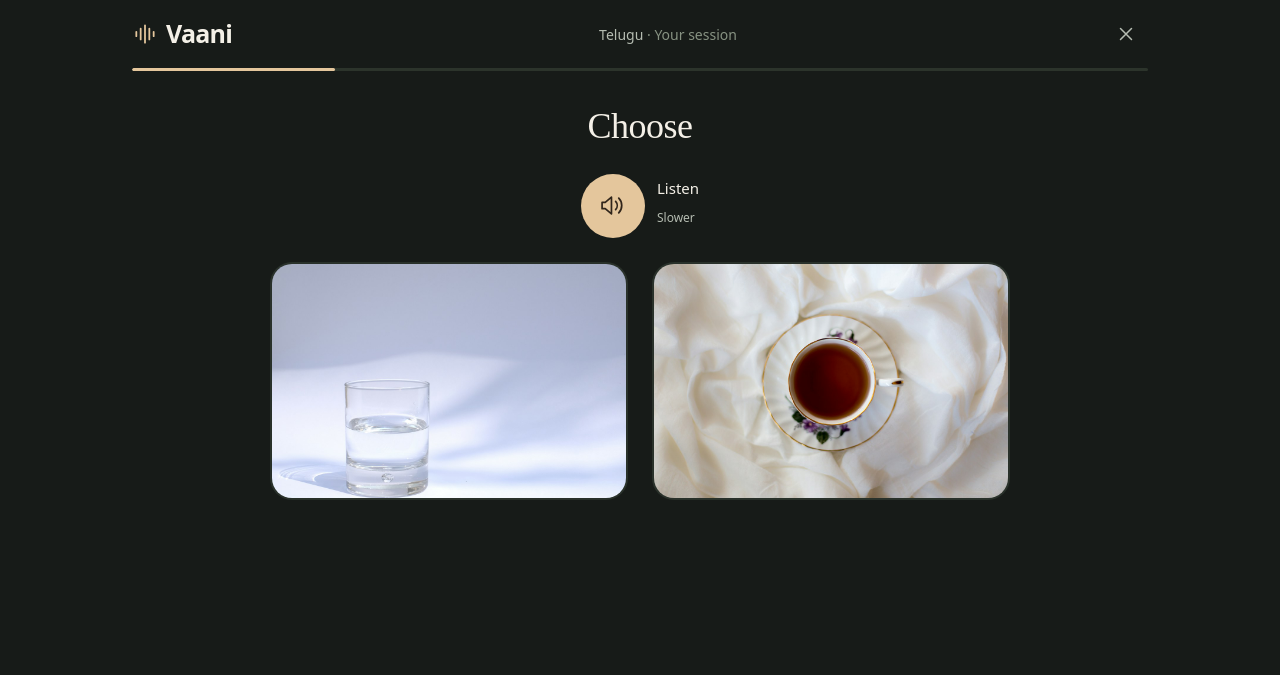
Test: consumer learning interactions › keeps the chosen photograph present after an incorrect response and allows retry
This screenshot has width=1280, height=675.
What coordinates should you click on to do the following:
click the button named "Image option 2"
I would click on:
 (831, 381)
Its box is [652,262,1010,500].
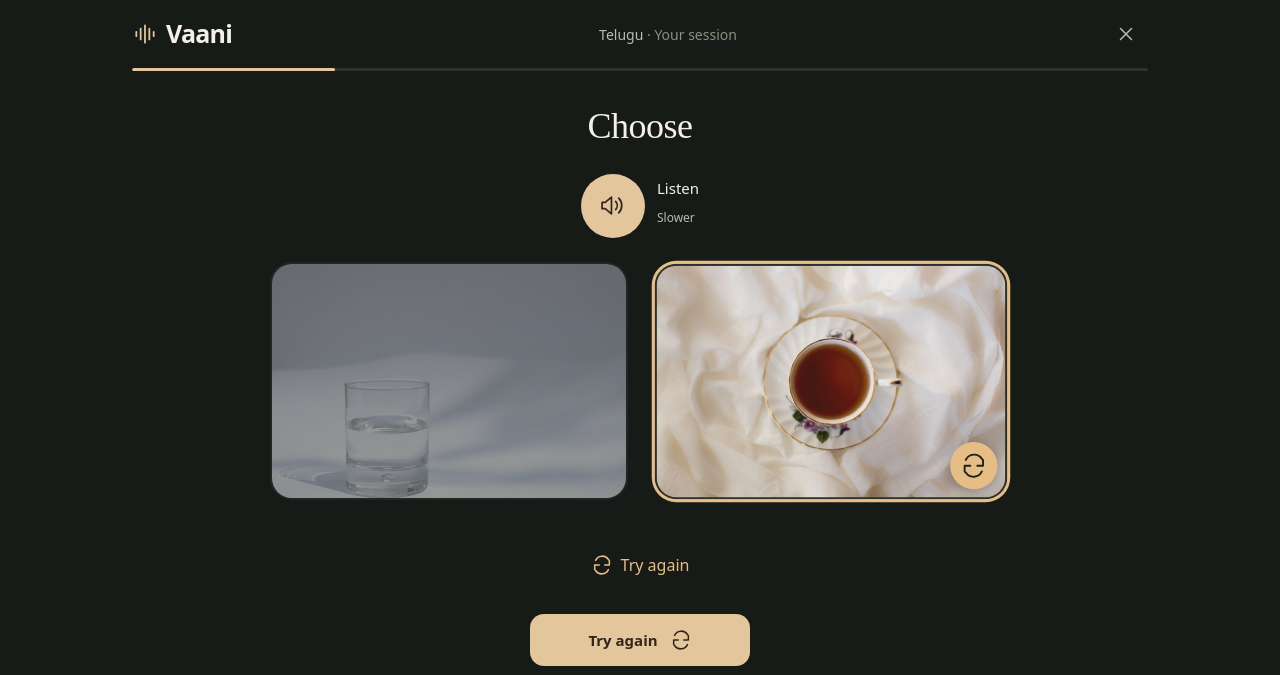
Check: the text "Try again" is shown, box [621,554,689,578]
What coordinates should you click on to do the following:
click the button "Try again"
I would click on:
 (640, 640)
Its box is [530,614,750,666].
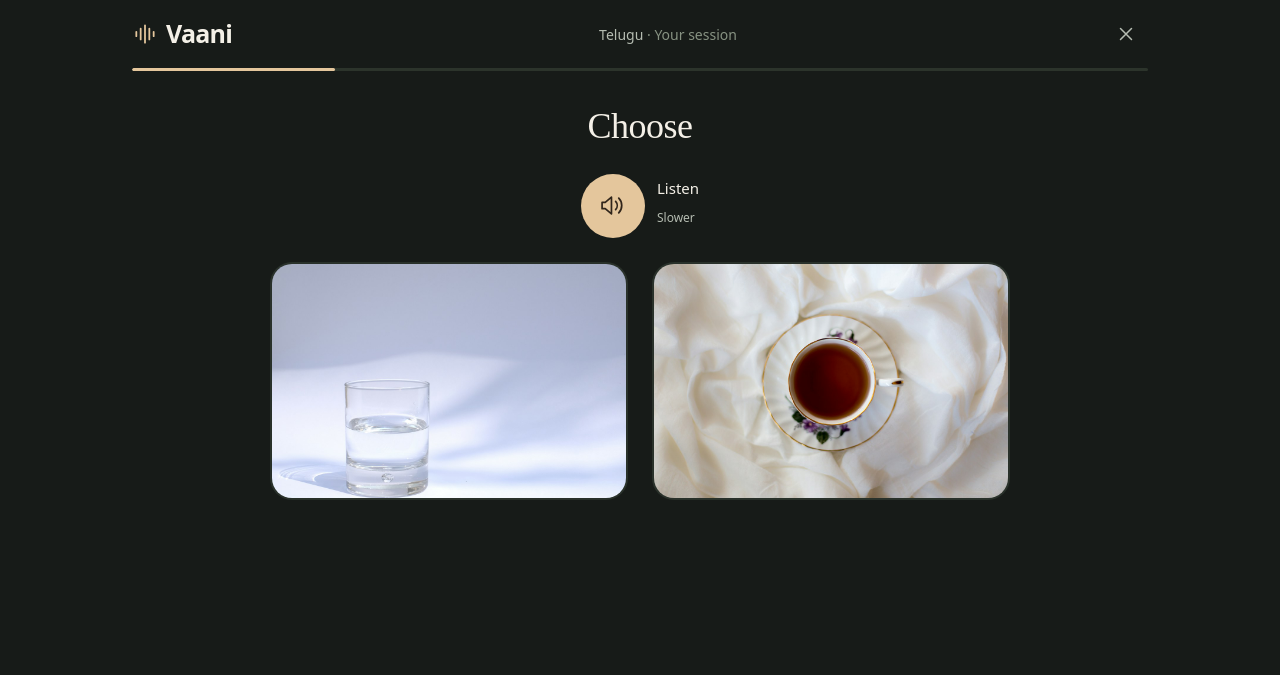
Check: the button named "Image option 2" is enabled, box [652,262,1010,500]
